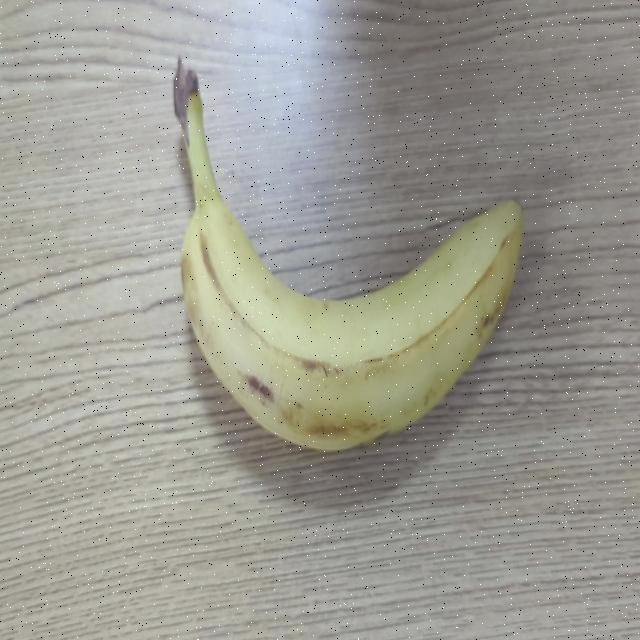Pisang: (129, 22, 558, 506)
